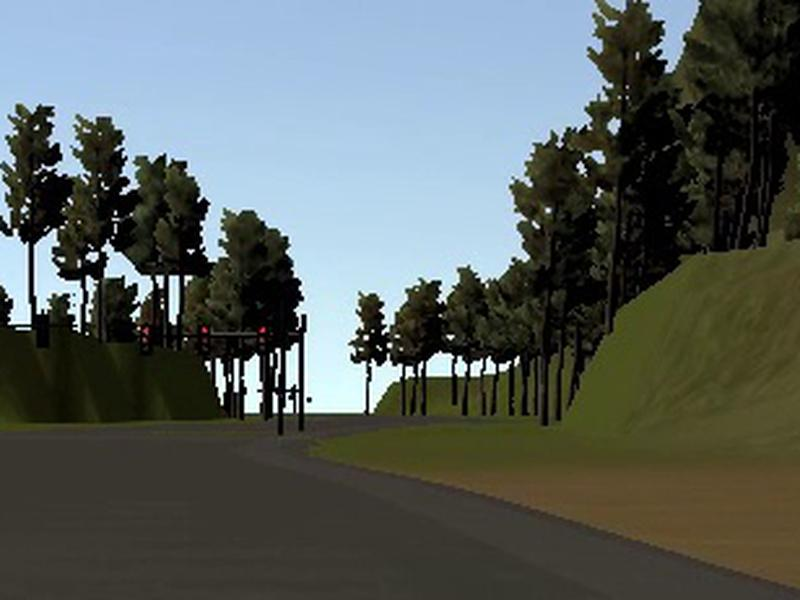Red: (138, 324, 153, 357), (255, 323, 269, 355), (199, 324, 212, 358)
